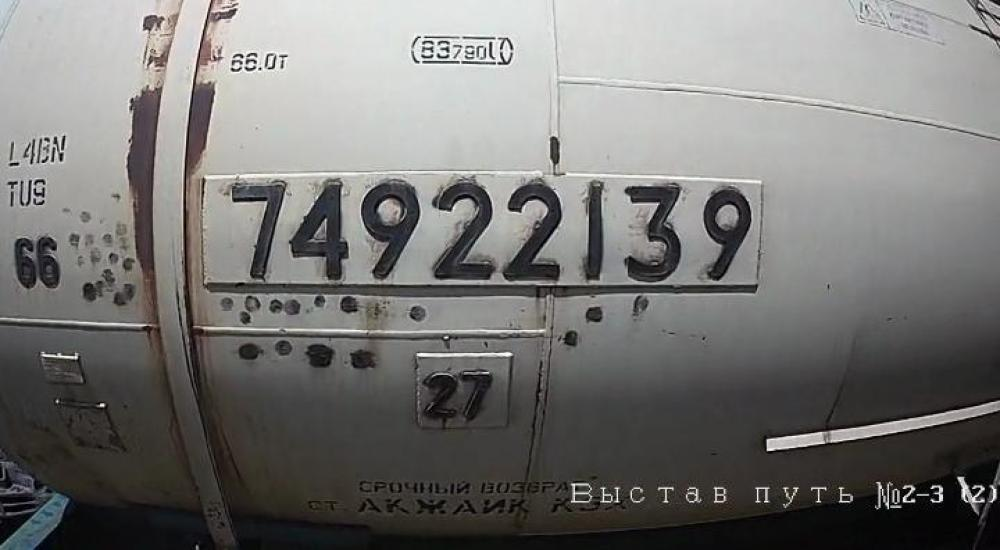Wagon-number: (219, 172, 753, 288)
